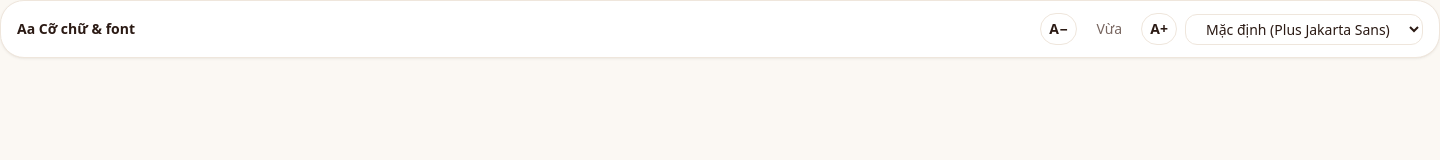
Scenario: ReadingPrefs › A+ enlarges, persists, and stops at the largest step
The width and height of the screenshot is (1440, 160).
Click the button named "Chữ lớn hơn" at x=1159, y=29, box [1141,13,1177,45]
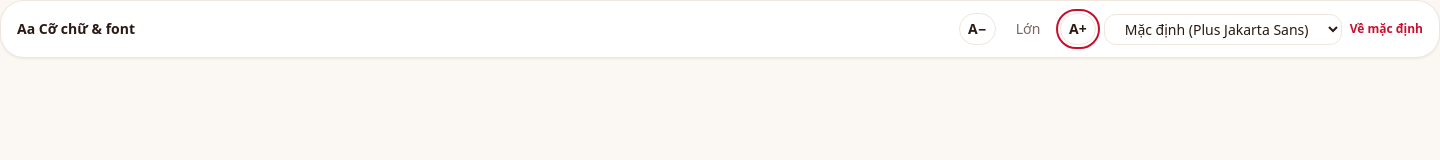
Result: the text "Lớn" is shown at [1016,19,1040,38]
Click the button named "Chữ lớn hơn" at x=1078, y=29, box [1060,13,1096,45]
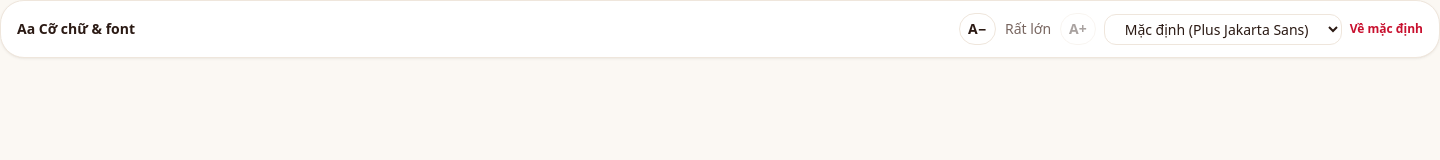
Result: the text "Rất lớn" is shown at [1005,19,1051,38]
Result: the button named "Chữ lớn hơn" is disabled at [1060,13,1096,45]
